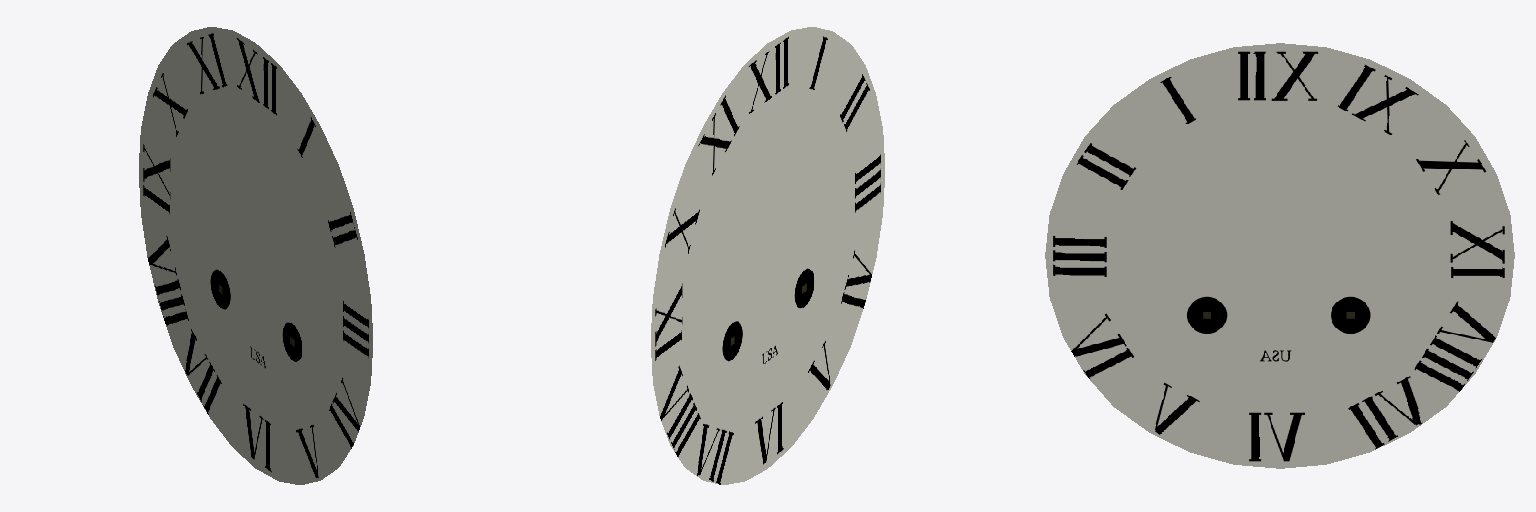
3 renders of one model, left to right at view 1: azimuth 30°, elevation 25°; view 2: azimuth 150°, elevation 25°; view 3: azimuth 270°, elevation 25°, orthographic.
Parts seen in each view (by area): view 1: Cylinder.002_Cylinder.007; view 2: Cylinder.002_Cylinder.007; view 3: Cylinder.002_Cylinder.007.
Part boxes in pixels (bbox=[...]): Cylinder.002_Cylinder.007: bbox=[139, 27, 372, 484]; Cylinder.002_Cylinder.007: bbox=[651, 27, 884, 484]; Cylinder.002_Cylinder.007: bbox=[1045, 43, 1514, 468].
Bounding box in the file's own units: 0 × 0.309 × 0.309.
Materials: 1 (1 with a texture image).